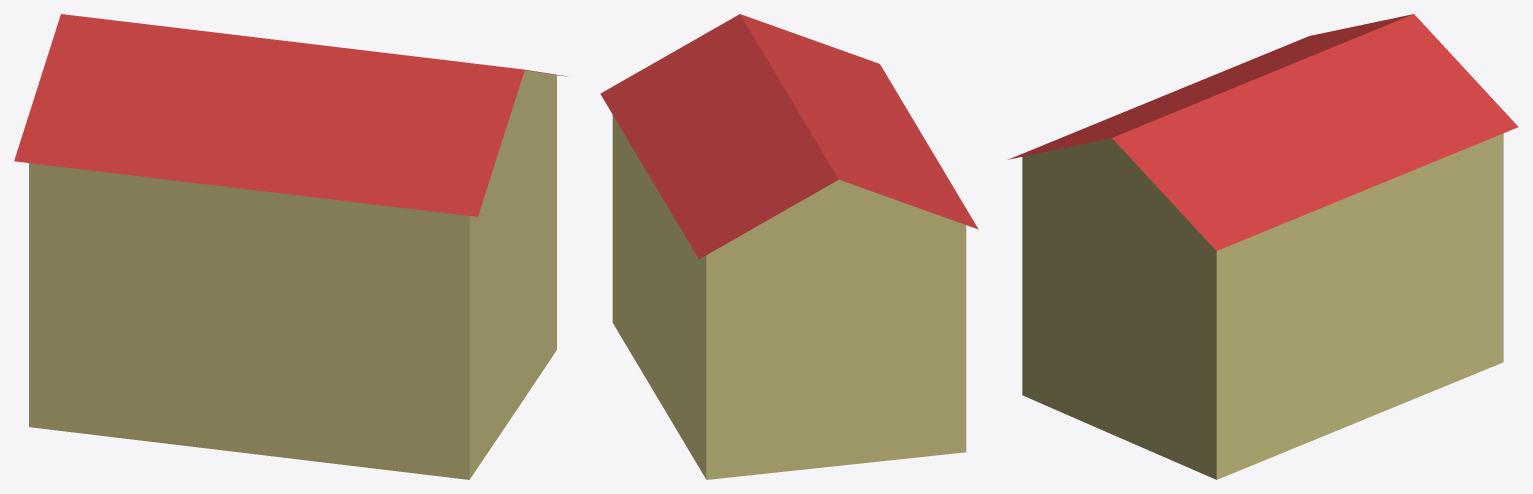
3 renders of one model, left to right at view 1: azimuth 30°, elevation 25°; view 2: azimuth 150°, elevation 25°; view 3: azimuth 270°, elevation 25°, orthographic. The views are drawn at different scales.
Size of the model in its own units: 11.93 by 11.99 by 7.83.
